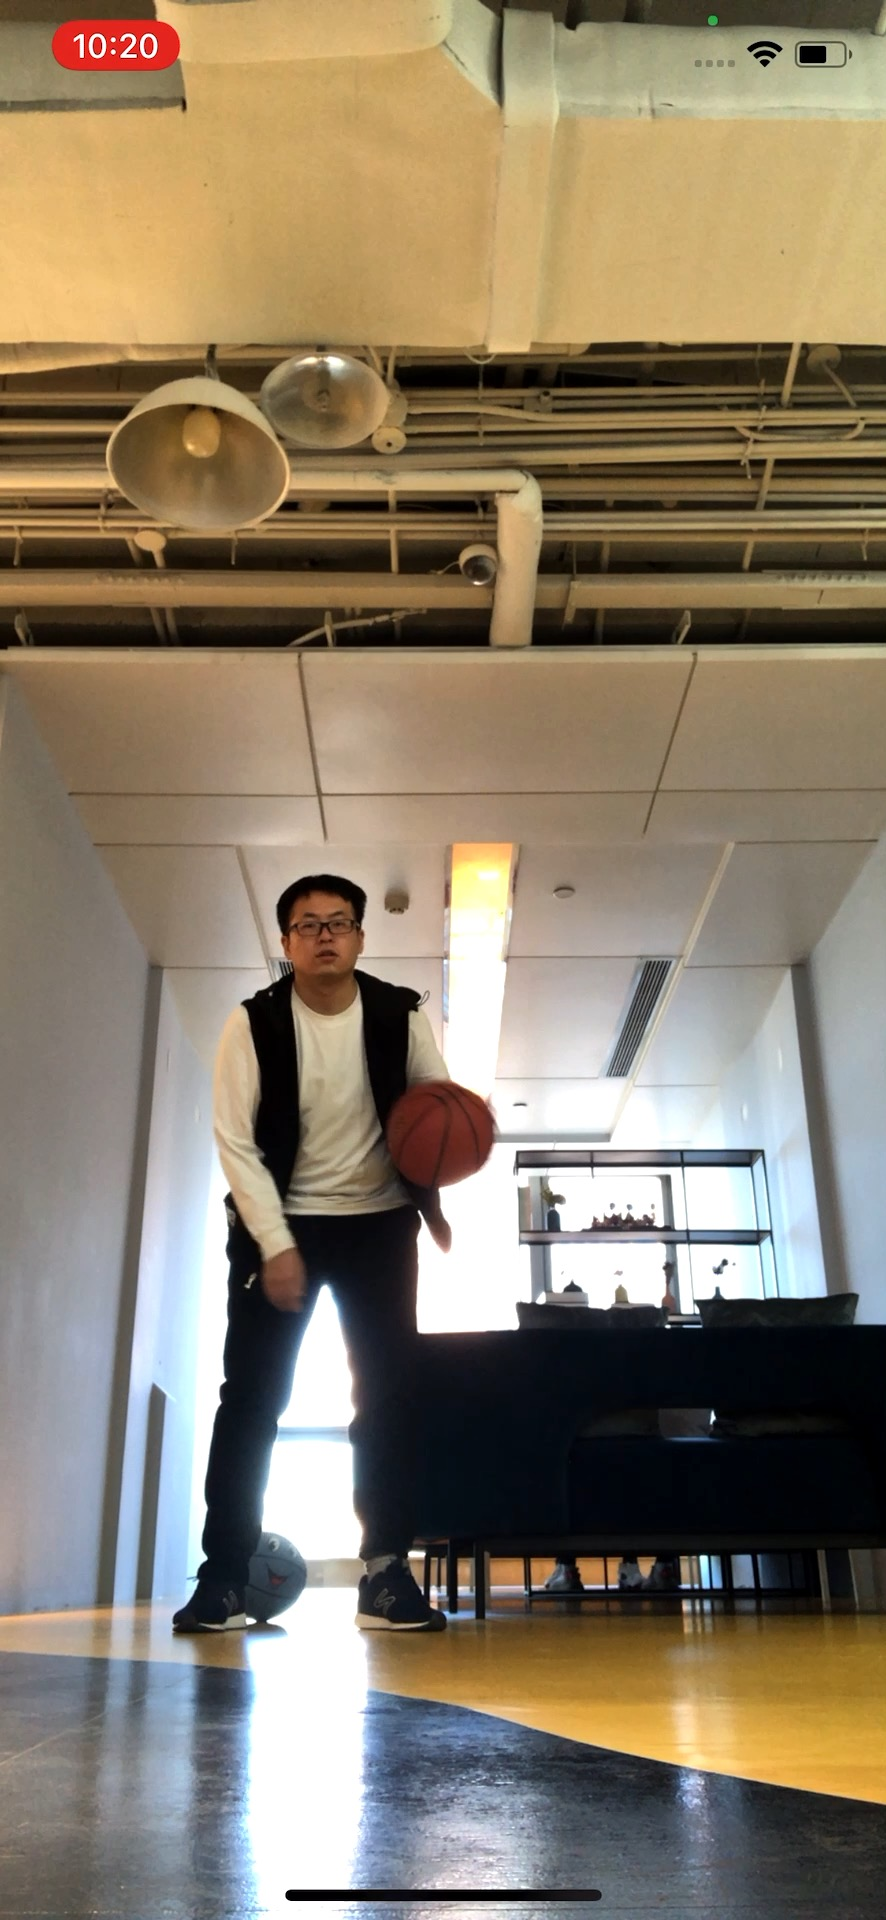ball: (382, 1080, 496, 1191)
